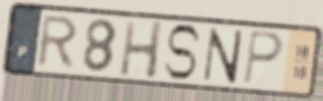8: (81, 17, 118, 75)
H: (117, 19, 166, 82)
N: (200, 26, 246, 85)
P: (242, 28, 286, 87)
R: (33, 14, 81, 71)
S: (162, 23, 204, 83)
